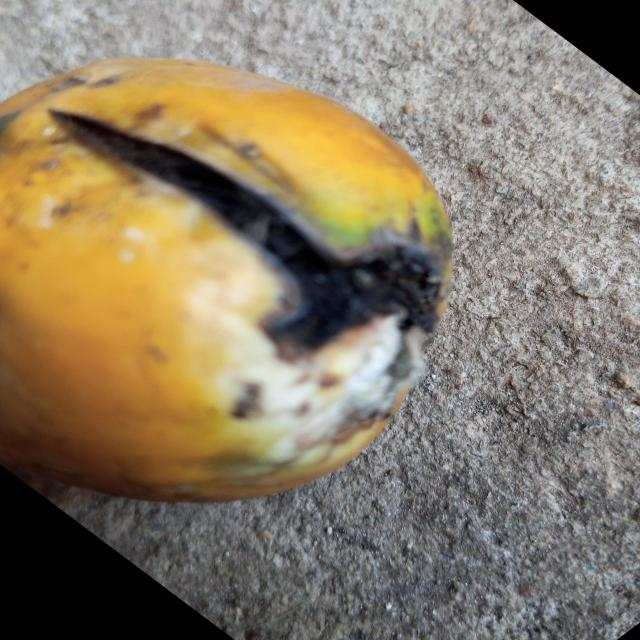damaged: (0, 57, 453, 506)
